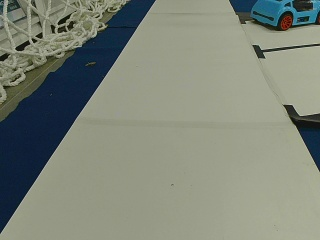car: (250, 1, 319, 29)
